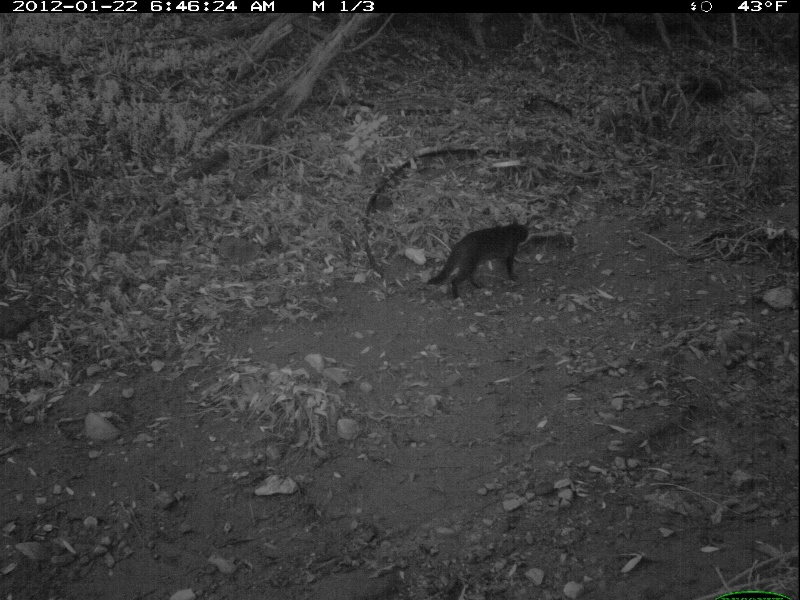cat: (428, 218, 533, 301)
